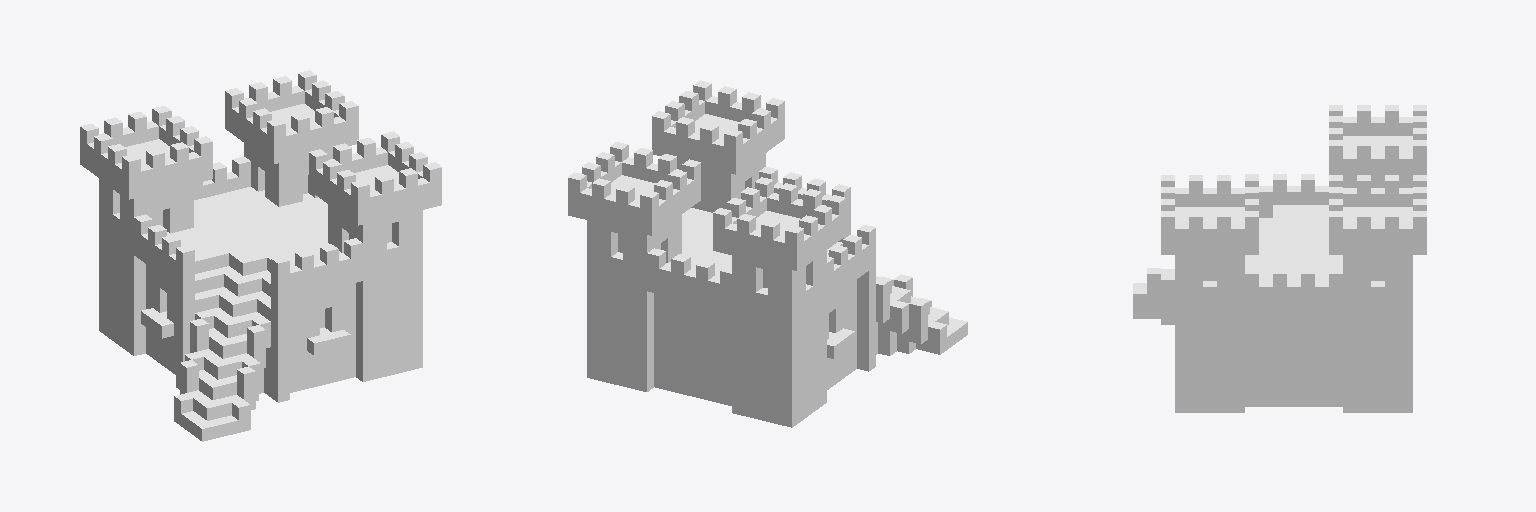
File: VolcanoCastle.obj
3 renders of one model, left to right at view 1: azimuth 30°, elevation 25°; view 2: azimuth 150°, elevation 25°; view 3: azimuth 270°, elevation 25°, orthographic.
Visible parts, largest first — view 1: object 1; view 2: object 1; view 3: object 1.
Part boxes in pixels (x1,y1,x2,y2): object 1: (80, 70, 441, 441); object 1: (568, 80, 967, 427); object 1: (1133, 105, 1426, 412).
Bounding box in the file's own units: 2.1 × 1.6 × 2.1.